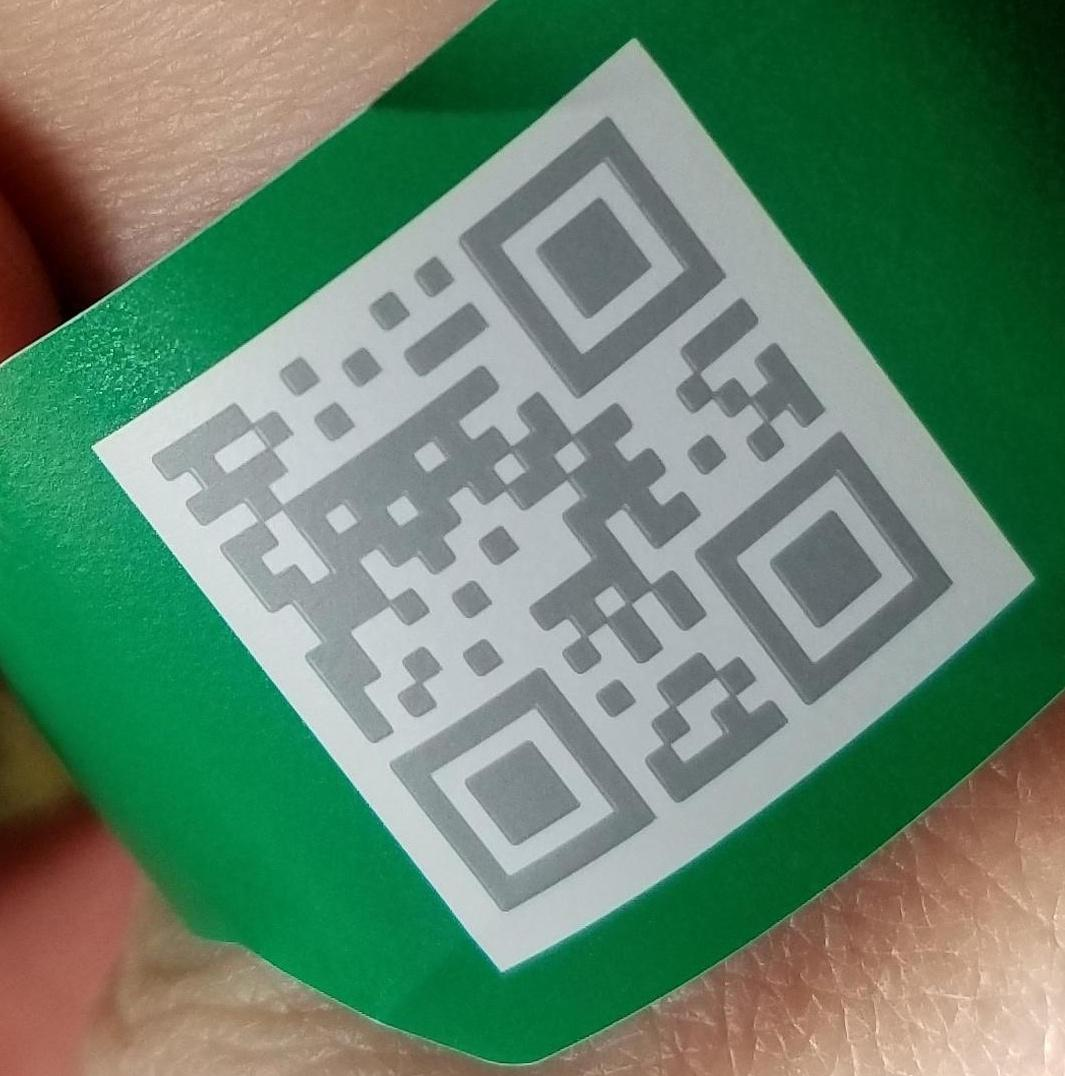qrcode: (151, 113, 956, 912)
